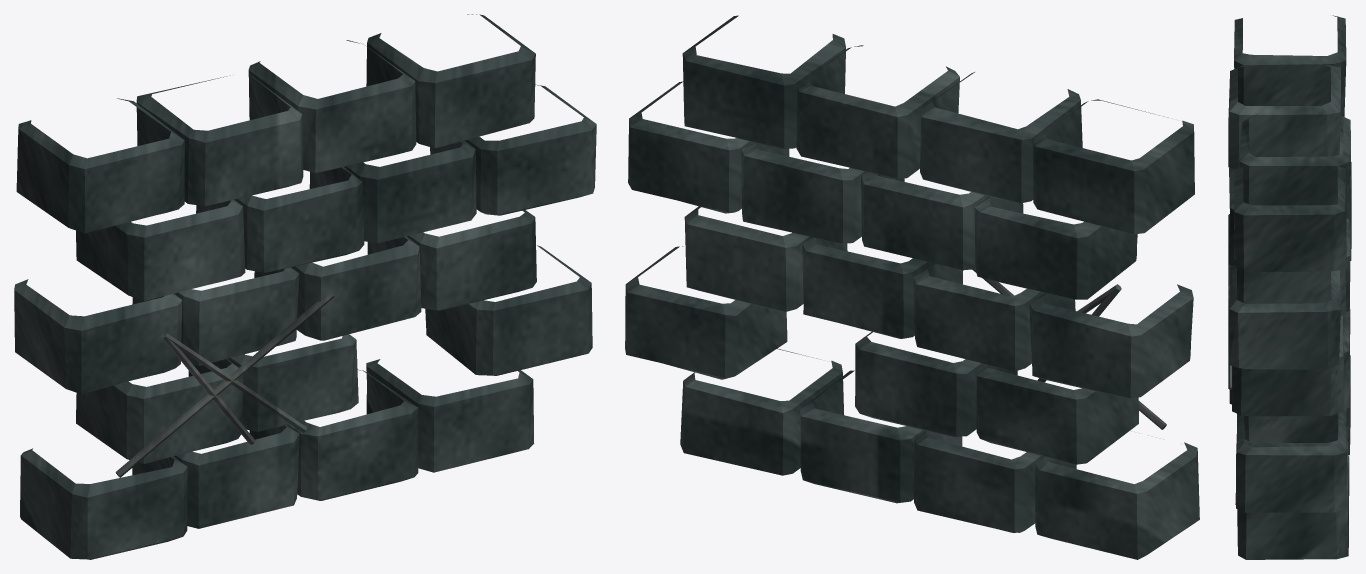
File: 0338_wall_section_13.glb
3 views of the same model, side by side, from view 1: azimuth 30°, elevation 25°; view 2: azimuth 150°, elevation 25°; view 3: azimuth 270°, elevation 25° (orthographic). The views are drawn at different scales.
Parts seen in each view (by area): view 1: stone_dark, iron; view 2: stone_dark, iron; view 3: stone_dark, iron.
Part boxes in pixels (box(x1,y1,x2,y2)): stone_dark: box(14, 14, 596, 559); iron: box(115, 292, 334, 477); stone_dark: box(625, 15, 1199, 559); iron: box(972, 267, 1166, 429); stone_dark: box(1228, 15, 1351, 559); iron: box(1228, 214, 1231, 389).
Size of the model in its own units: 2.56 by 1.88 by 0.5923.
Materials: 2 (2 with a texture image).
